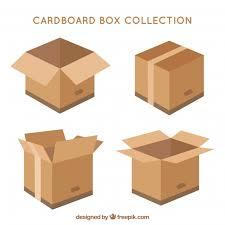Cardboard: (4, 21, 110, 116), (7, 128, 106, 205), (119, 127, 212, 205), (130, 30, 209, 117)
